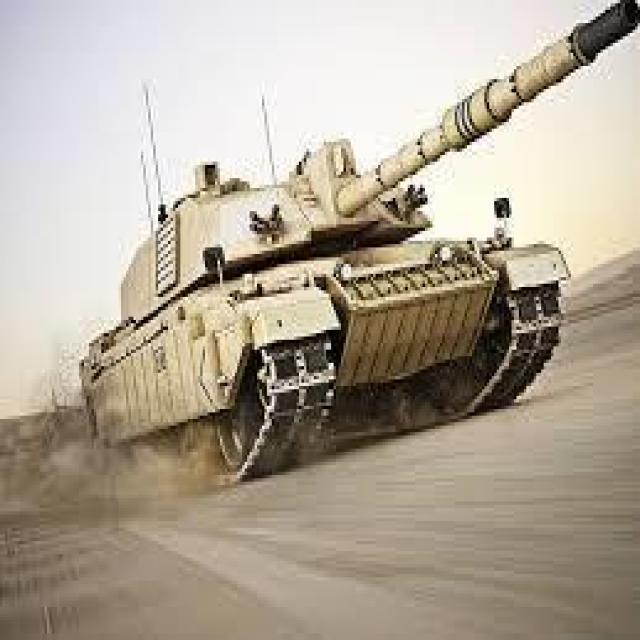Tanks: (78, 130, 582, 487)
